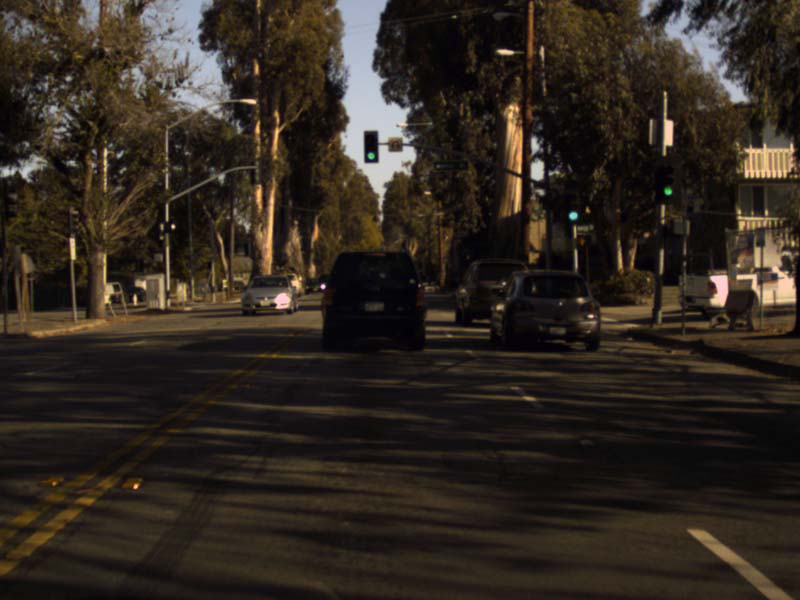Green: (654, 157, 680, 206), (564, 189, 579, 223), (363, 131, 377, 162)
